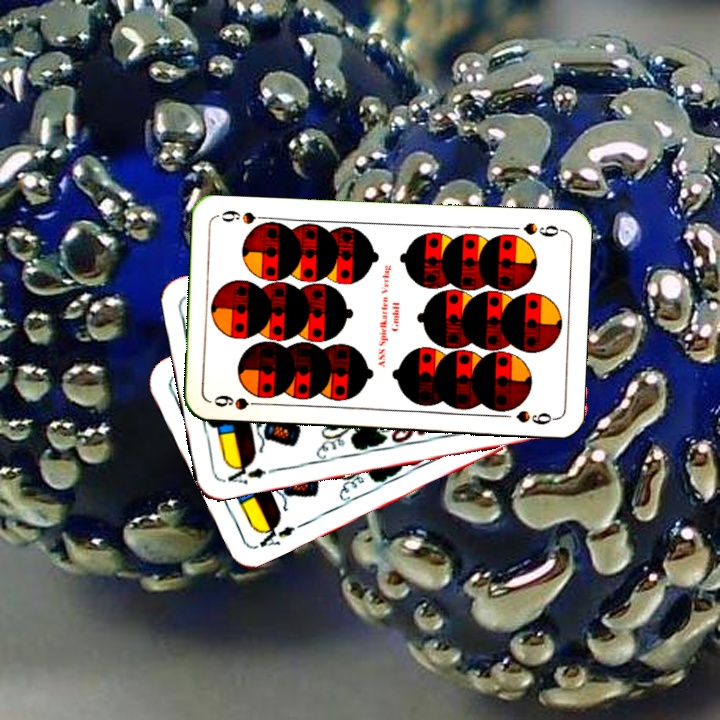EA: (222, 458, 279, 487), (251, 517, 298, 551)
S9: (210, 391, 268, 412), (519, 218, 565, 240)
